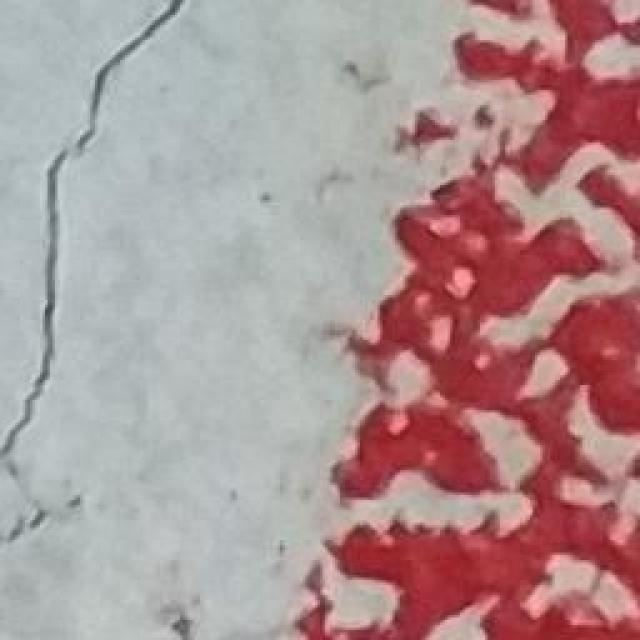Longitudinal: (0, 0, 194, 545)
